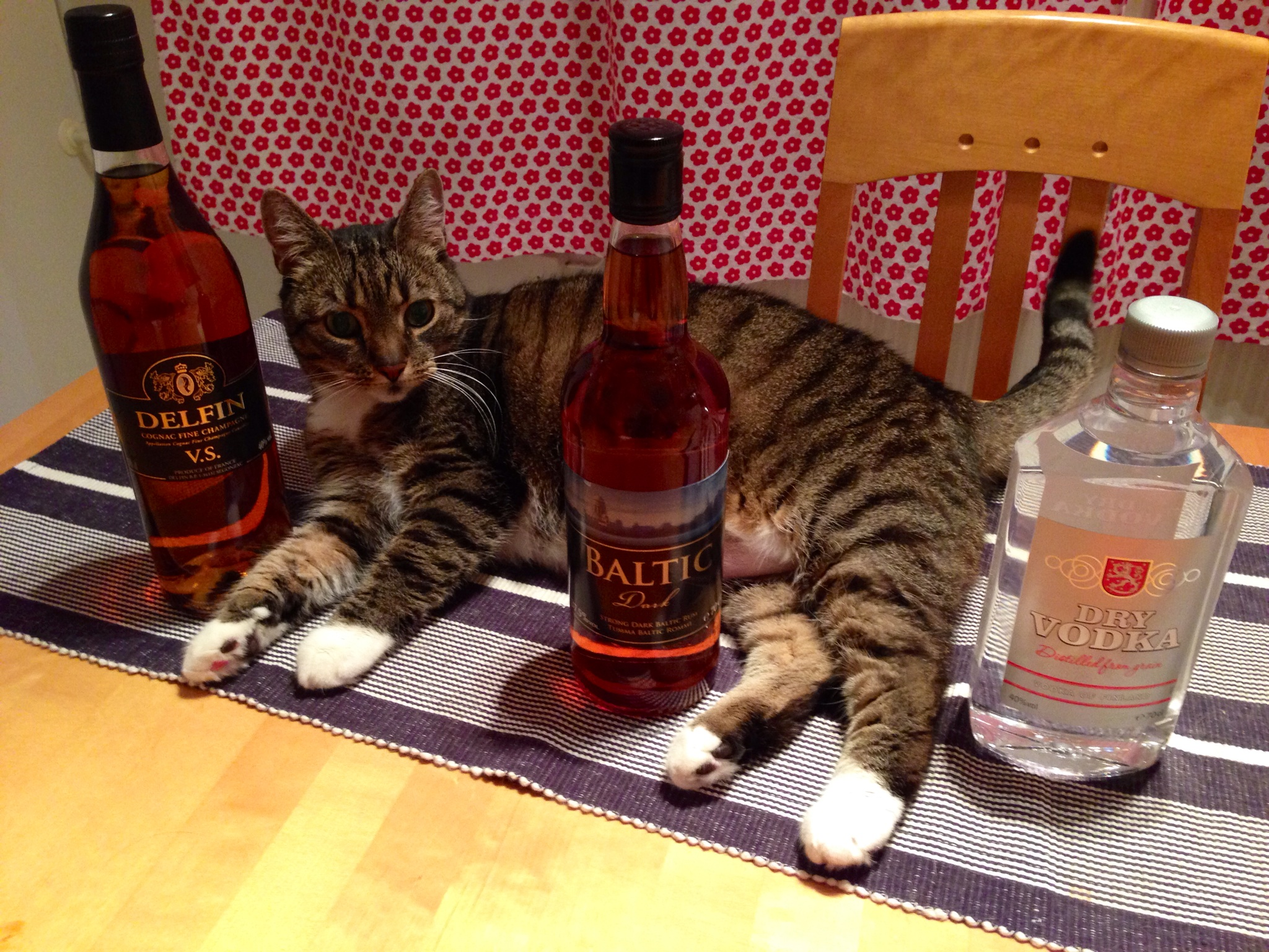cat: (172, 173, 1094, 862)
